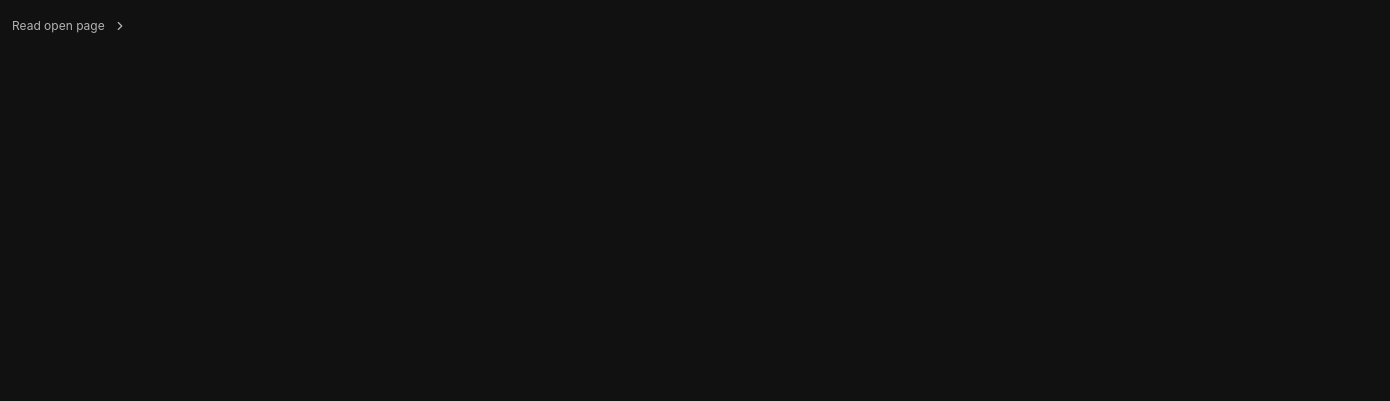
Test: provider thinking and tool disclosures › renders JSON tool output as code, with real status and duration
Expected: the text "Completed" is not shown
Expected: the text "0.4s" is not shown
Click the button "Read open page".
click(58, 26)  # box [12,12,1378,40]
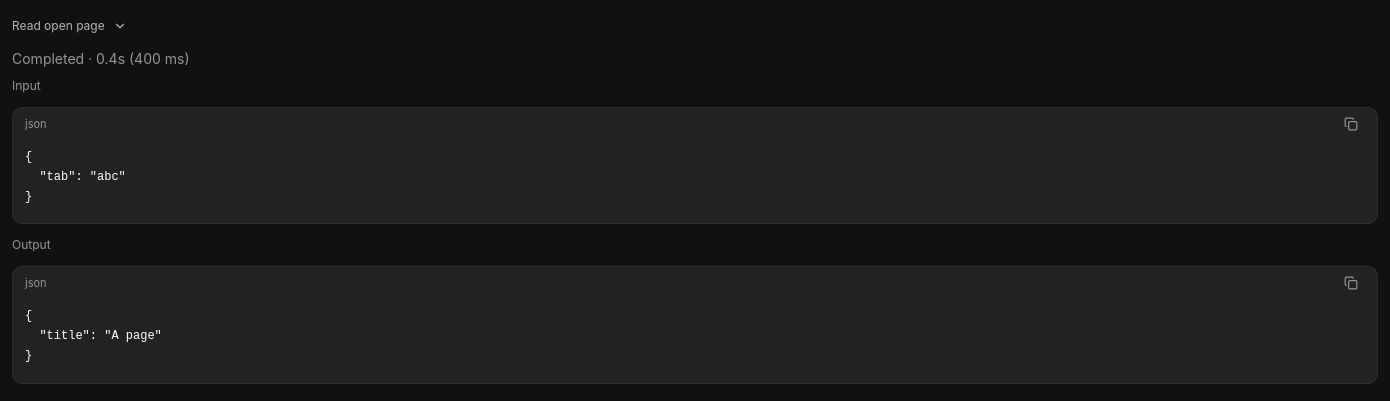
Now the text "Completed · 0.4s" is shown, box [12,50,190,67]
Now the text "400 ms" is shown, box [84,50,190,67]
Now the number of elements with class "code-block" is 2, box [12,107,1378,224]; [12,266,1378,384]
